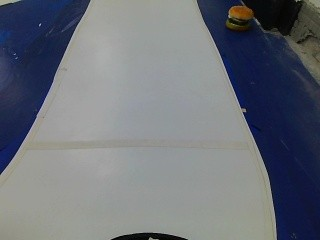burger: (216, 3, 260, 39)
